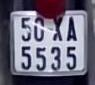0: (34, 17, 46, 43)
3: (49, 46, 63, 71)
5: (20, 16, 33, 42), (65, 45, 78, 70), (20, 44, 32, 71), (35, 46, 47, 72)
A: (67, 15, 78, 44)
X: (50, 15, 63, 44)
